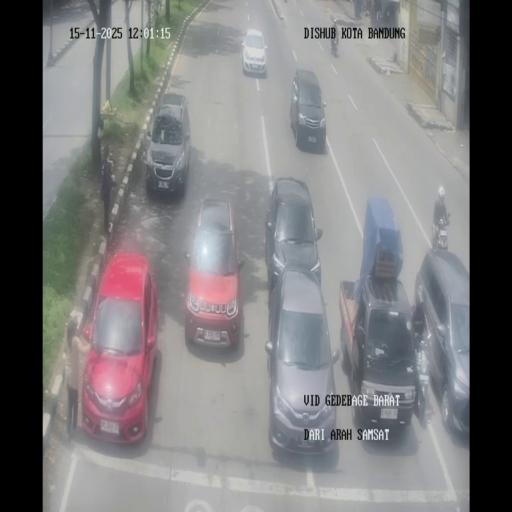3: (338, 198, 417, 439)
car: (80, 251, 158, 444), (266, 268, 338, 458), (414, 248, 470, 440), (146, 92, 192, 196), (290, 68, 328, 153), (241, 27, 267, 75)
truck: (432, 210, 449, 250), (330, 24, 338, 56), (360, 0, 368, 17)
